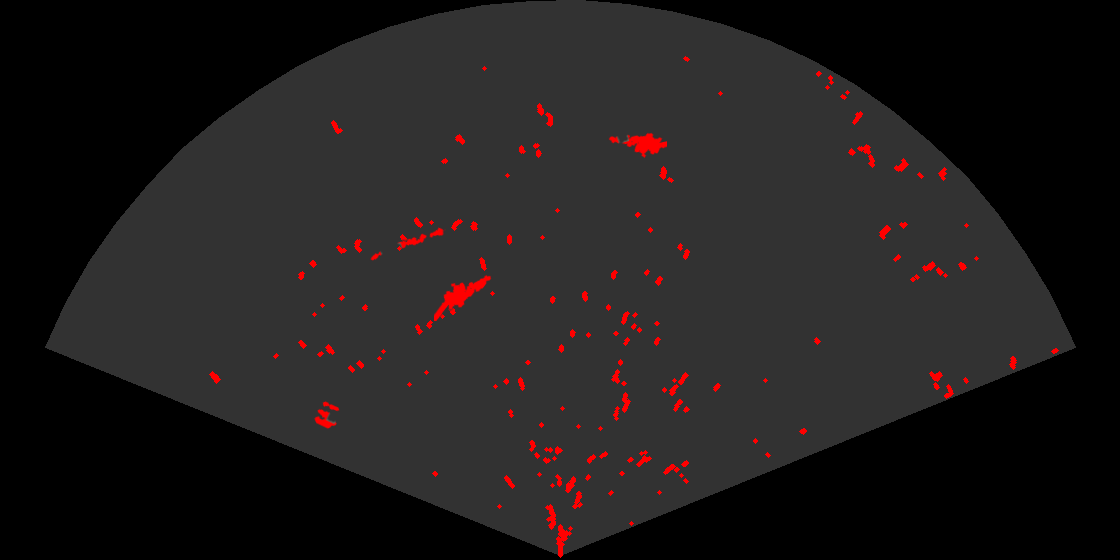ball: (312, 400, 341, 430)
chain: (369, 226, 446, 262)
frogman: (434, 273, 493, 321), (607, 131, 667, 160)
